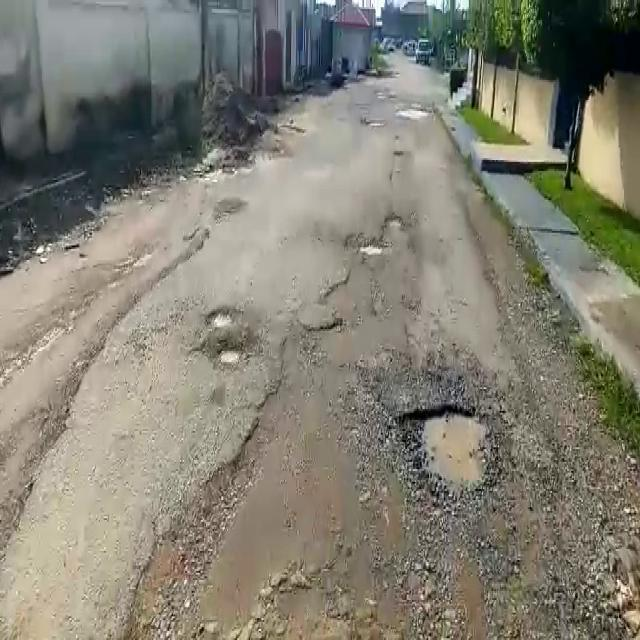pothole: (395, 405, 494, 507), (205, 308, 241, 330), (359, 241, 386, 260), (219, 348, 239, 368), (384, 216, 406, 231)
